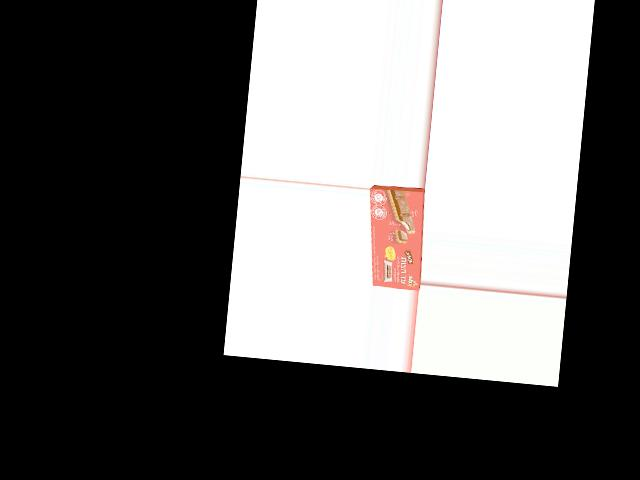chocolate: (366, 185, 425, 291)
